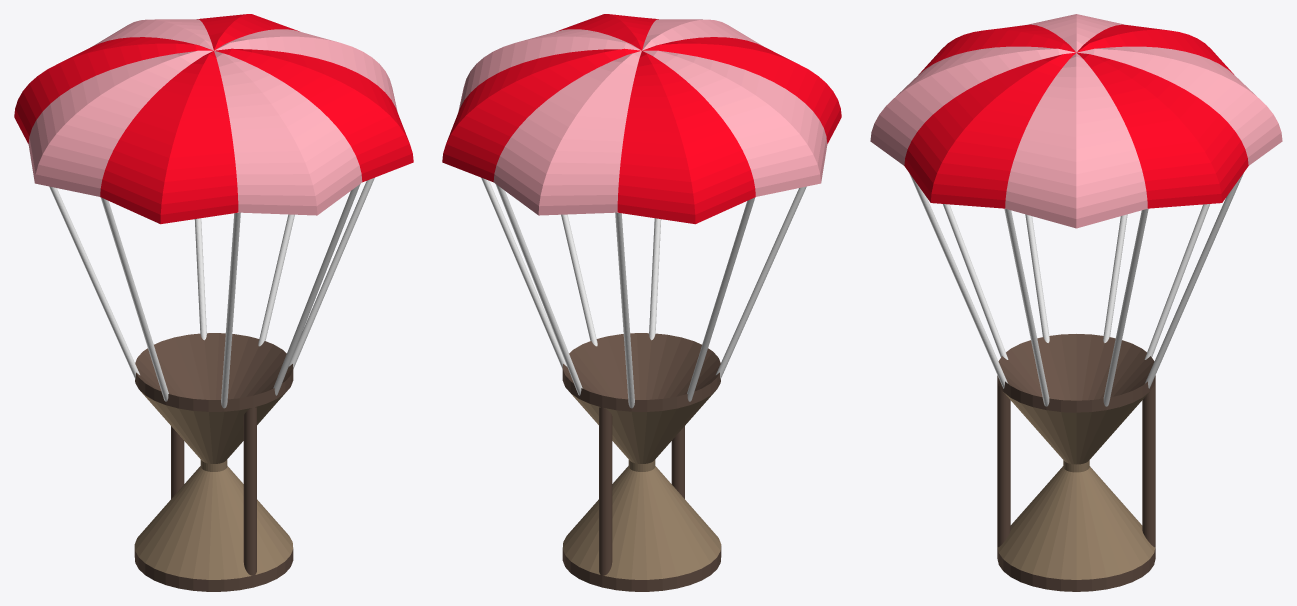
The model's file is ParachuteTime.dae.
3 renders of one model, left to right at view 1: azimuth 30°, elevation 25°; view 2: azimuth 150°, elevation 25°; view 3: azimuth 270°, elevation 25°, orthographic.
Visible parts, largest first — view 1: Sphere, Cone.001, Cone, Cylinder.010, Cylinder.004, Cylinder.006, Cylinder.007, Cylinder.003, Cylinder.009, Cylinder.000, Cylinder.002, Cylinder.008; view 2: Sphere, Cone.001, Cone, Cylinder.008, Cylinder.002, Cylinder.007, Cylinder.006, Cylinder.001, Cylinder.000, Cylinder.009, Cylinder.004, Cylinder.010; view 3: Sphere, Cone.001, Cone, Cylinder.008, Cylinder.010, Cylinder.002, Cylinder.004, Cylinder.000, Cylinder.009, Cylinder.001, Cylinder.003, Cylinder.006 (+1 smaller).
Boxes of the visible parts, <box> form: Sphere: <box>14,14,413,224</box>; Cone.001: <box>134,466,293,591</box>; Cone: <box>135,333,293,463</box>; Cylinder.010: <box>243,407,256,575</box>; Cylinder.004: <box>273,184,360,395</box>; Cylinder.006: <box>100,197,168,401</box>; Cylinder.007: <box>49,186,139,379</box>; Cylinder.003: <box>221,212,240,408</box>; Cylinder.009: <box>289,177,374,368</box>; Cylinder.000: <box>258,214,294,346</box>; Cylinder.002: <box>194,218,206,340</box>; Cylinder.008: <box>171,426,184,498</box>; Sphere: <box>442,14,841,224</box>; Cone.001: <box>562,466,721,591</box>; Cone: <box>562,333,720,463</box>; Cylinder.008: <box>599,407,612,575</box>; Cylinder.002: <box>495,184,582,395</box>; Cylinder.007: <box>687,197,755,401</box>; Cylinder.006: <box>716,186,806,379</box>; Cylinder.001: <box>615,212,634,408</box>; Cylinder.000: <box>481,177,566,368</box>; Cylinder.009: <box>561,214,597,346</box>; Cylinder.004: <box>649,218,661,340</box>; Cylinder.010: <box>671,426,684,498</box>; Sphere: <box>870,14,1282,228</box>; Cone.001: <box>997,466,1155,591</box>; Cone: <box>997,334,1155,464</box>; Cylinder.008: <box>1142,380,1155,547</box>; Cylinder.010: <box>997,380,1010,547</box>; Cylinder.002: <box>1145,173,1243,388</box>; Cylinder.004: <box>909,173,1007,388</box>; Cylinder.000: <box>1103,208,1148,406</box>; Cylinder.009: <box>1004,208,1049,406</box>; Cylinder.001: <box>1144,204,1209,359</box>; Cylinder.003: <box>943,204,1008,359</box>; Cylinder.006: <box>1025,214,1049,342</box>.
Bounding box in the file's own units: 5 × 5 × 6.82.
